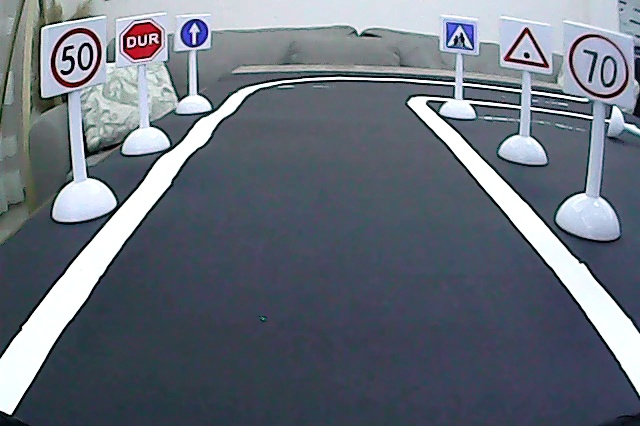green light: (501, 23, 552, 73)
school crossing: (443, 18, 476, 53)
speed limit 50: (47, 25, 105, 91)
speed limit 70: (567, 32, 632, 102)
stop sign: (121, 19, 164, 64)
